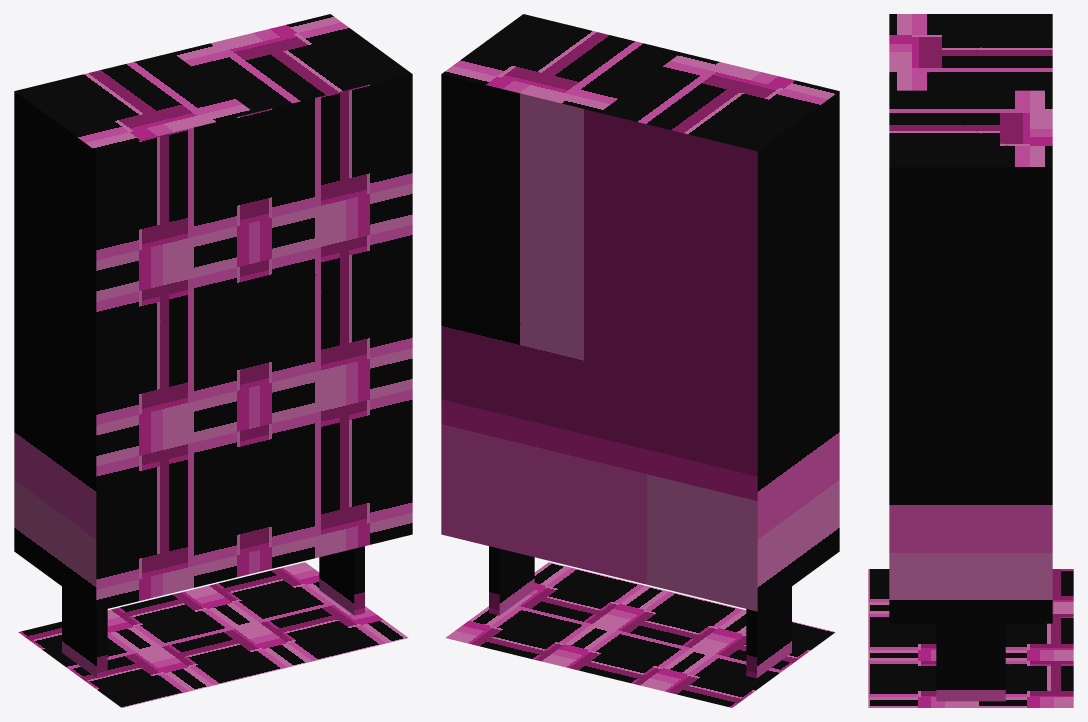
The picture shows the model from 3 angles, left to right: view 1: azimuth 30°, elevation 25°; view 2: azimuth 150°, elevation 25°; view 3: azimuth 270°, elevation 25°; orthographic projection.
Parts seen in each view (by area): view 1: 3787kg_sh1_10; view 2: 3787kg_sh1_10; view 3: 3787kg_sh1_10.
Boxes of the visible parts, x1=… form: 3787kg_sh1_10: x1=14, y1=14, x2=412, y2=707; 3787kg_sh1_10: x1=441, y1=14, x2=839, y2=707; 3787kg_sh1_10: x1=868, y1=14, x2=1073, y2=707.
Bounding box in the file's own units: 0.9502 × 1.59 × 0.5391.
5 materials, 5 textured.
